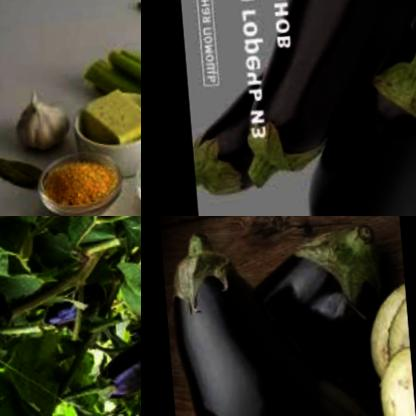celery: (81, 31, 141, 216)
eggplant: (158, 222, 413, 416), (225, 0, 415, 194), (235, 216, 391, 390), (290, 49, 416, 216), (184, 90, 270, 207), (57, 326, 141, 413), (0, 288, 32, 390)
garlic: (4, 90, 71, 158)
